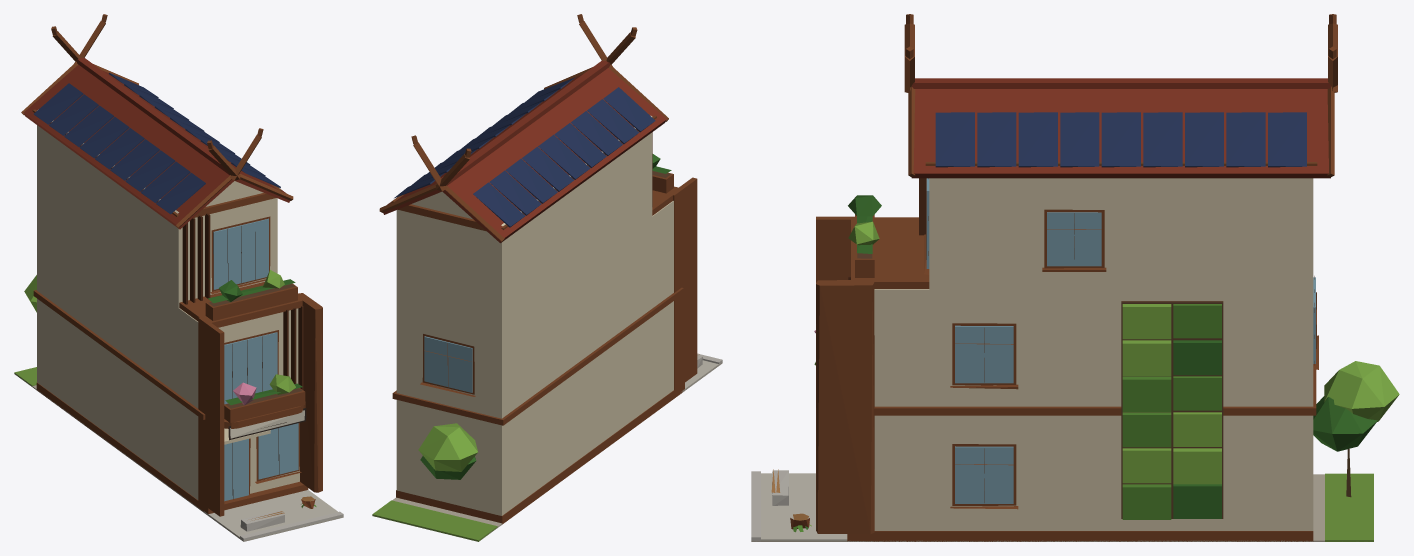
File: bay1_right.glb
The picture shows the model from 3 angles, left to right: view 1: azimuth 30°, elevation 25°; view 2: azimuth 150°, elevation 25°; view 3: azimuth 270°, elevation 25°; orthographic projection. The views are drawn at different scales.
Visible parts, largest first — view 1: body; view 2: body; view 3: body.
Part boxes in pixels (x1=…): body: x1=14, y1=14, x2=343, y2=541; body: x1=372, y1=14, x2=722, y2=541; body: x1=751, y1=14, x2=1399, y2=541.
Bounding box in the file's own units: 4.7 × 13.7 × 16.56.
